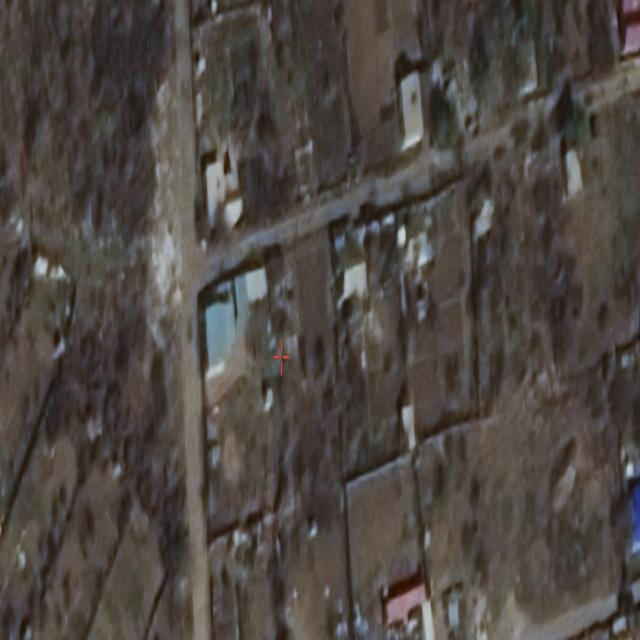argiculture: (5, 385, 94, 640), (2, 267, 83, 506), (17, 465, 123, 640), (334, 0, 427, 131), (80, 501, 164, 640)
old_road: (170, 0, 543, 640)
